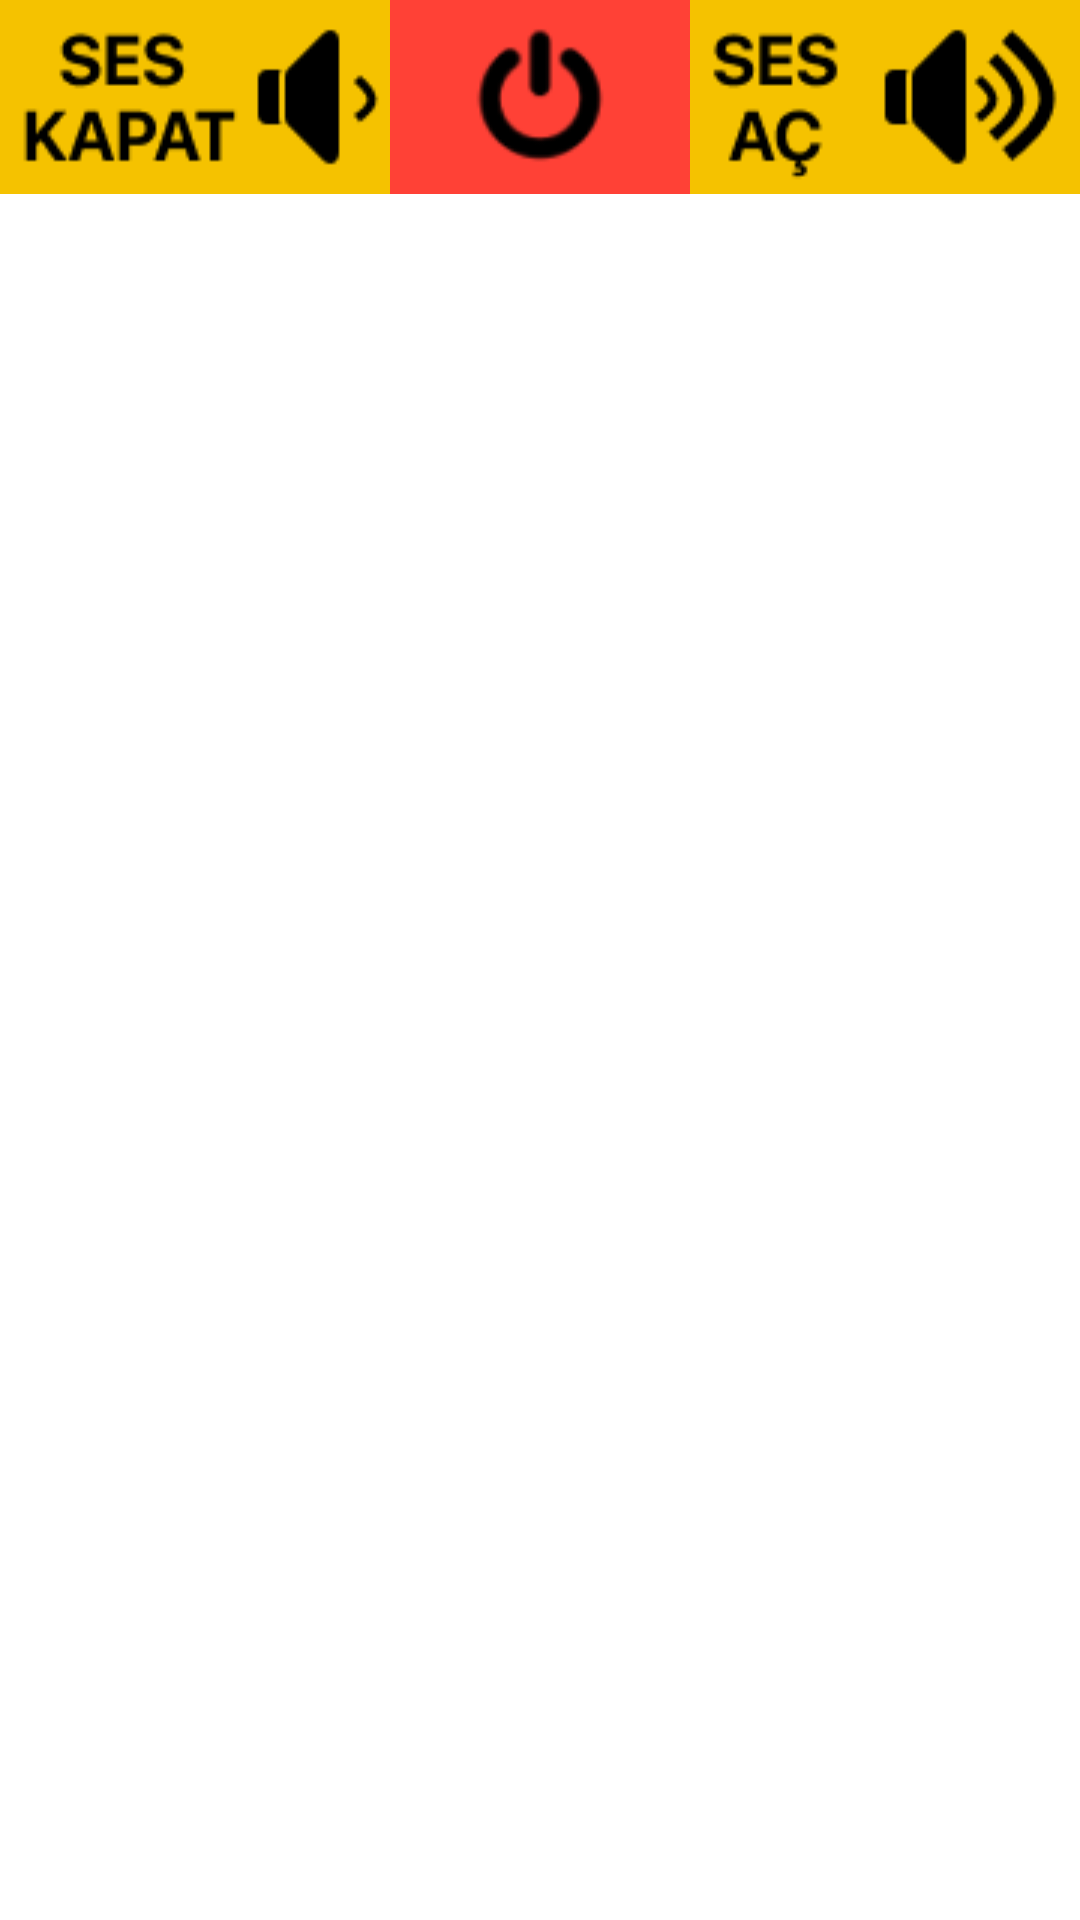

Screen size 1080×1920. Icon name, then its center in pixels as point (x, y):
power off: point (540, 97)
